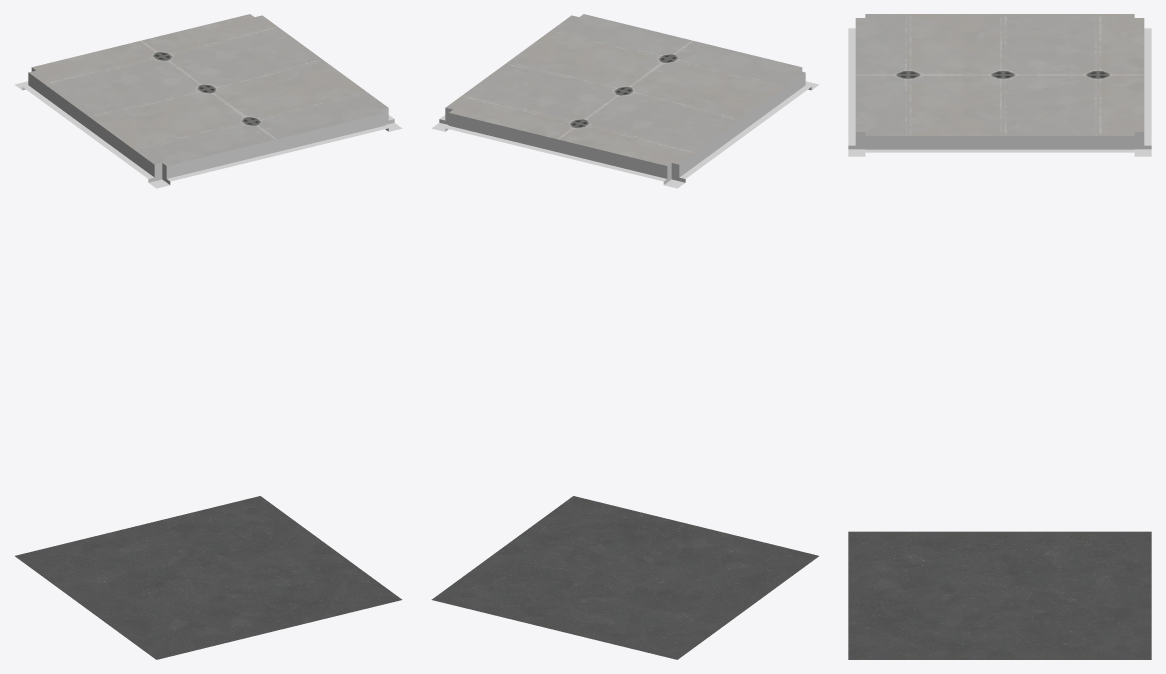
The model's file is fillpiece01.fbx.
3 views of the same model, side by side, from view 1: azimuth 30°, elevation 25°; view 2: azimuth 150°, elevation 25°; view 3: azimuth 270°, elevation 25° (orthographic). The views are drawn at different scales.
Parts seen in each view (by area): view 1: fillpiece01; view 2: fillpiece01; view 3: fillpiece01.
Boxes of the visible parts, box(x1,y1,x2,y2) form: fillpiece01: box(14, 14, 402, 659); fillpiece01: box(431, 14, 819, 659); fillpiece01: box(848, 14, 1151, 659).
Bounding box in the file's own units: 200 × 379 × 200.
